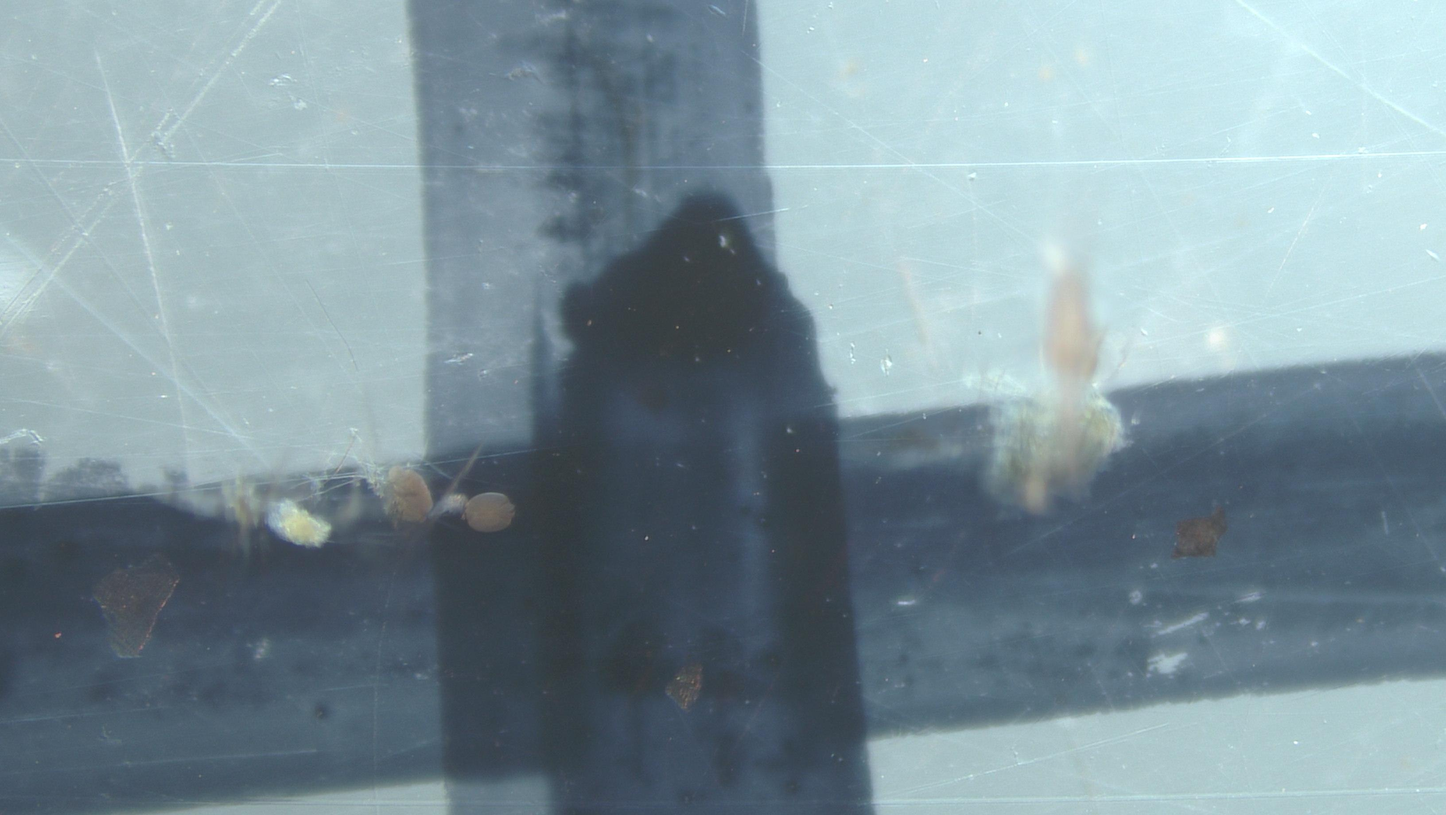live: (463, 493, 515, 533)
